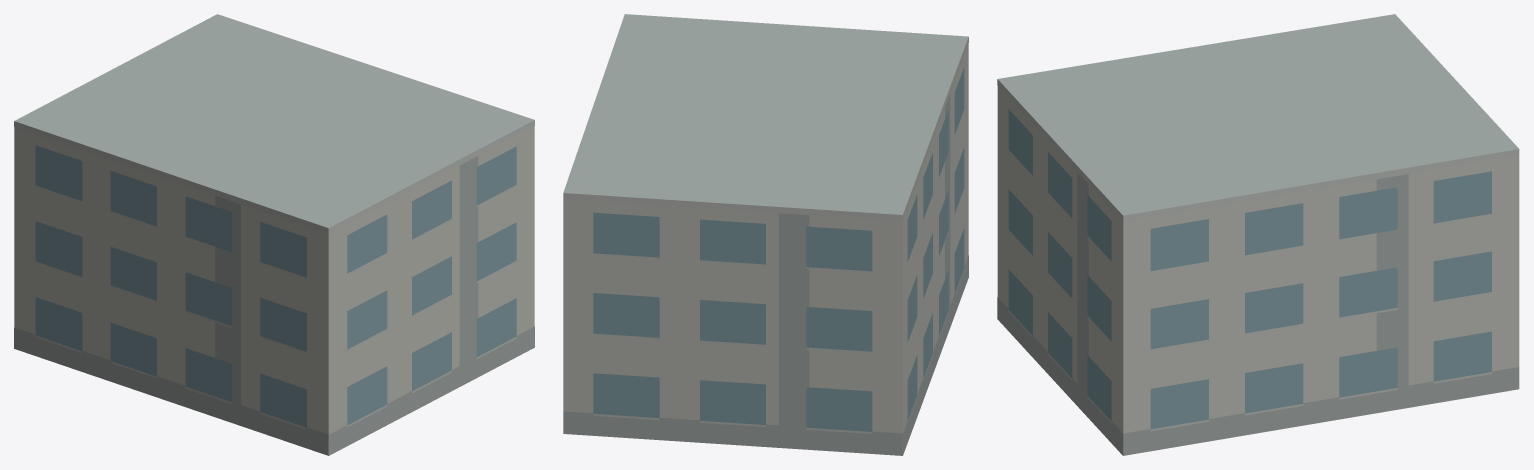
Rendered from survey-upis-32541759.glb.
3 views of the same model, side by side, from view 1: azimuth 30°, elevation 25°; view 2: azimuth 150°, elevation 25°; view 3: azimuth 270°, elevation 25° (orthographic). The views are drawn at different scales.
Parts seen in each view (by area): view 1: survey-upis-32541759.tmp; view 2: survey-upis-32541759.tmp; view 3: survey-upis-32541759.tmp.
Boxes of the visible parts, left/top/right/bottom form: survey-upis-32541759.tmp: left=14, top=14, right=534, bottom=455; survey-upis-32541759.tmp: left=563, top=14, right=968, bottom=455; survey-upis-32541759.tmp: left=997, top=14, right=1519, bottom=455.
Size of the model in its own units: 16.48 by 9.15 by 18.03.
